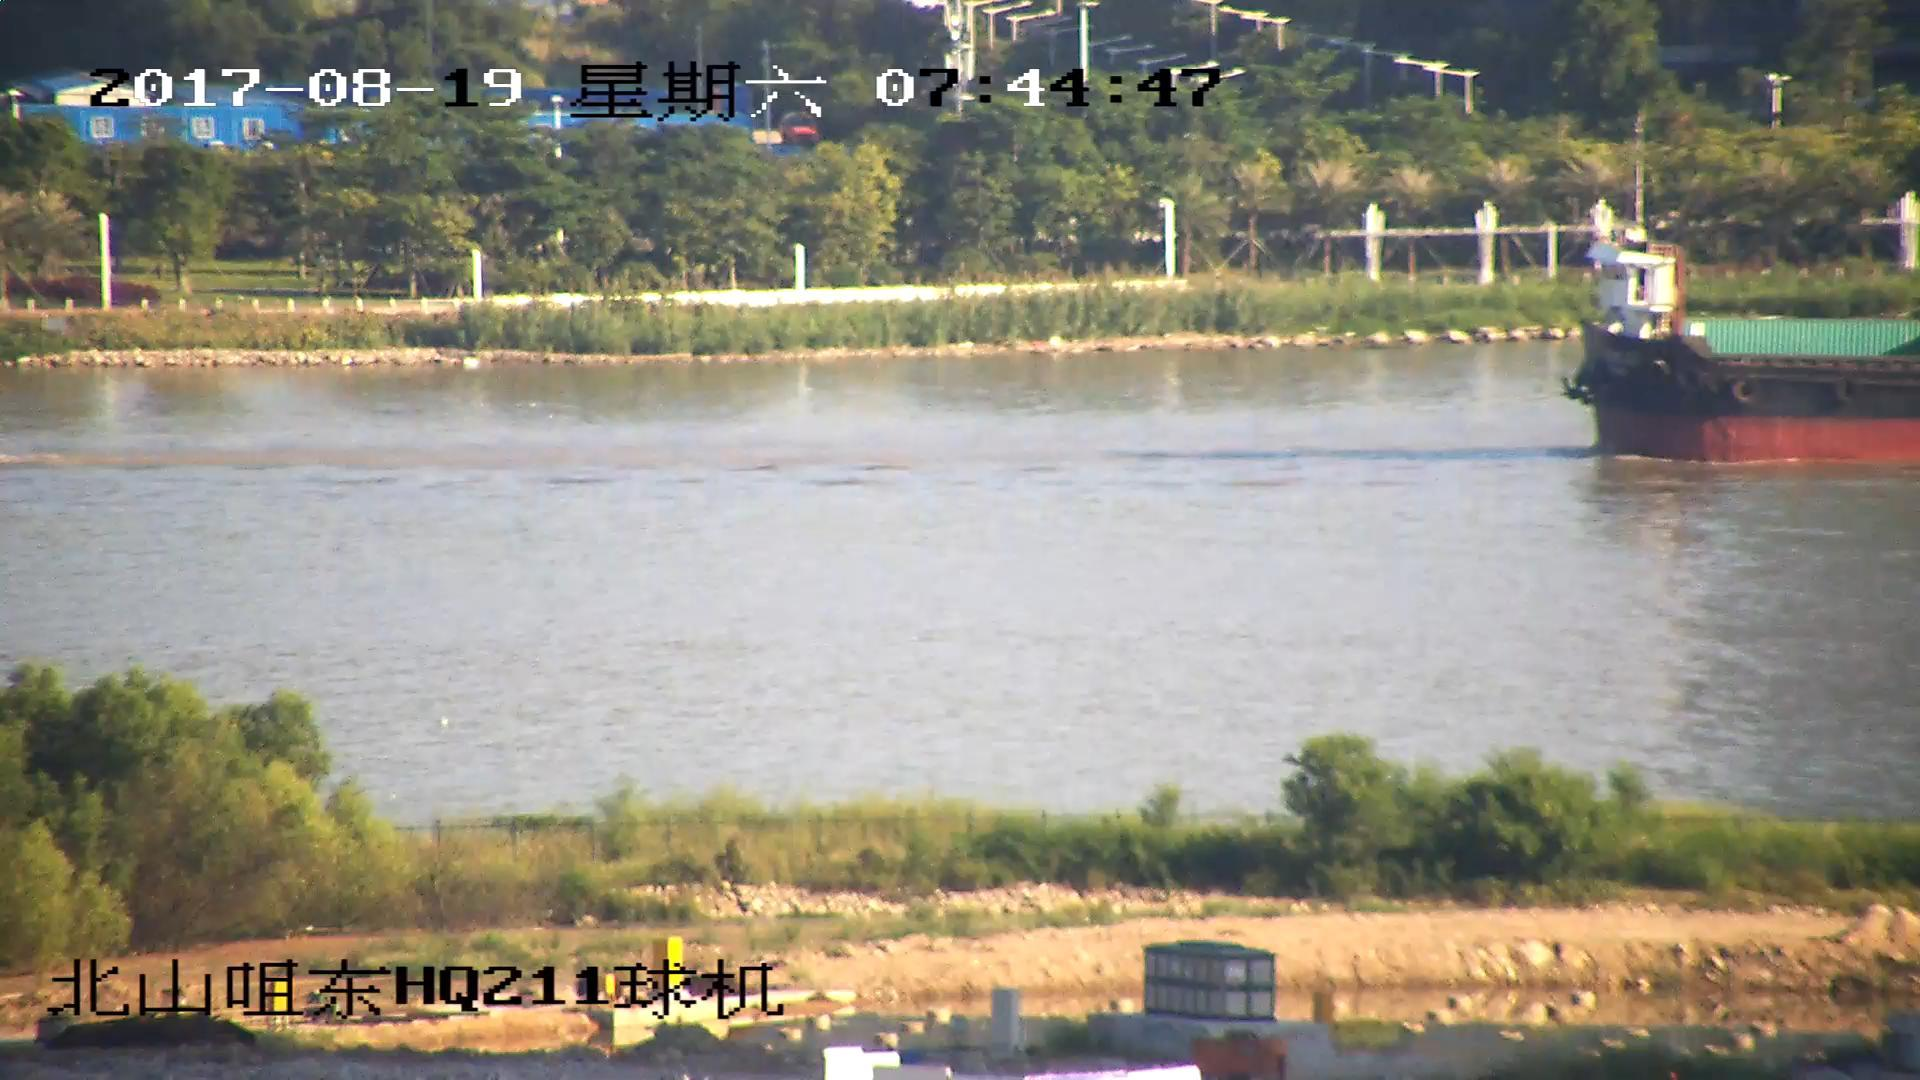Ship: (1563, 210, 1920, 465)
